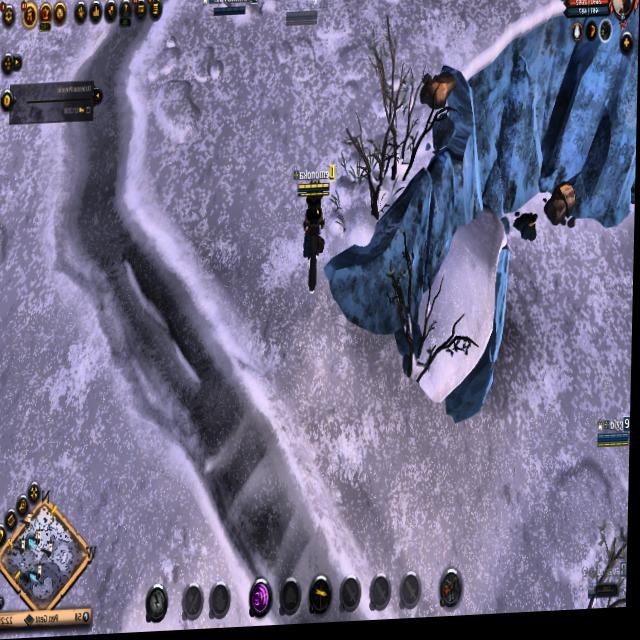ore tier 2: (514, 214, 540, 249)
rock tier 2: (542, 182, 581, 238), (418, 72, 457, 118)
